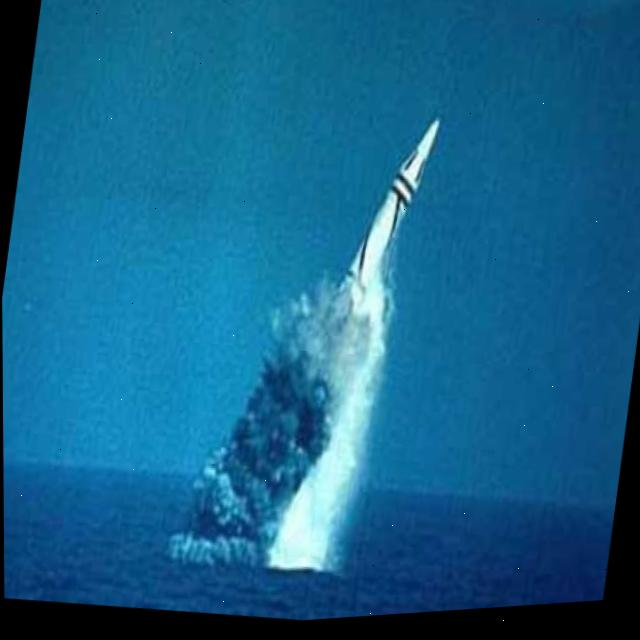missile: (301, 101, 449, 392)
